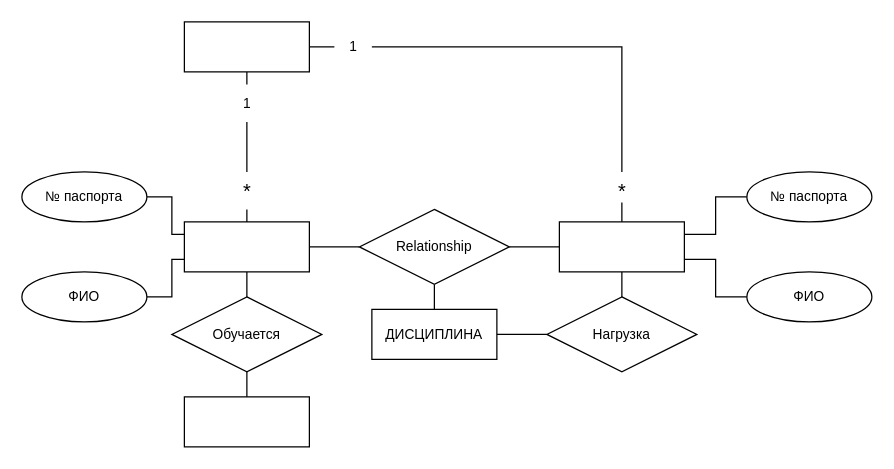
The diagram is 894 pixels wide and 469 high, and some of its shapes have lost their labels. The centre of each missing label's shape, as x and y in pixels:
ГРУППА: the point at 246,421
ДИРЕКТОР: the point at 246,46
ПРЕПОДАВАТЕЛЬ: the point at 621,246
СТУДЕНТ: the point at 246,246
